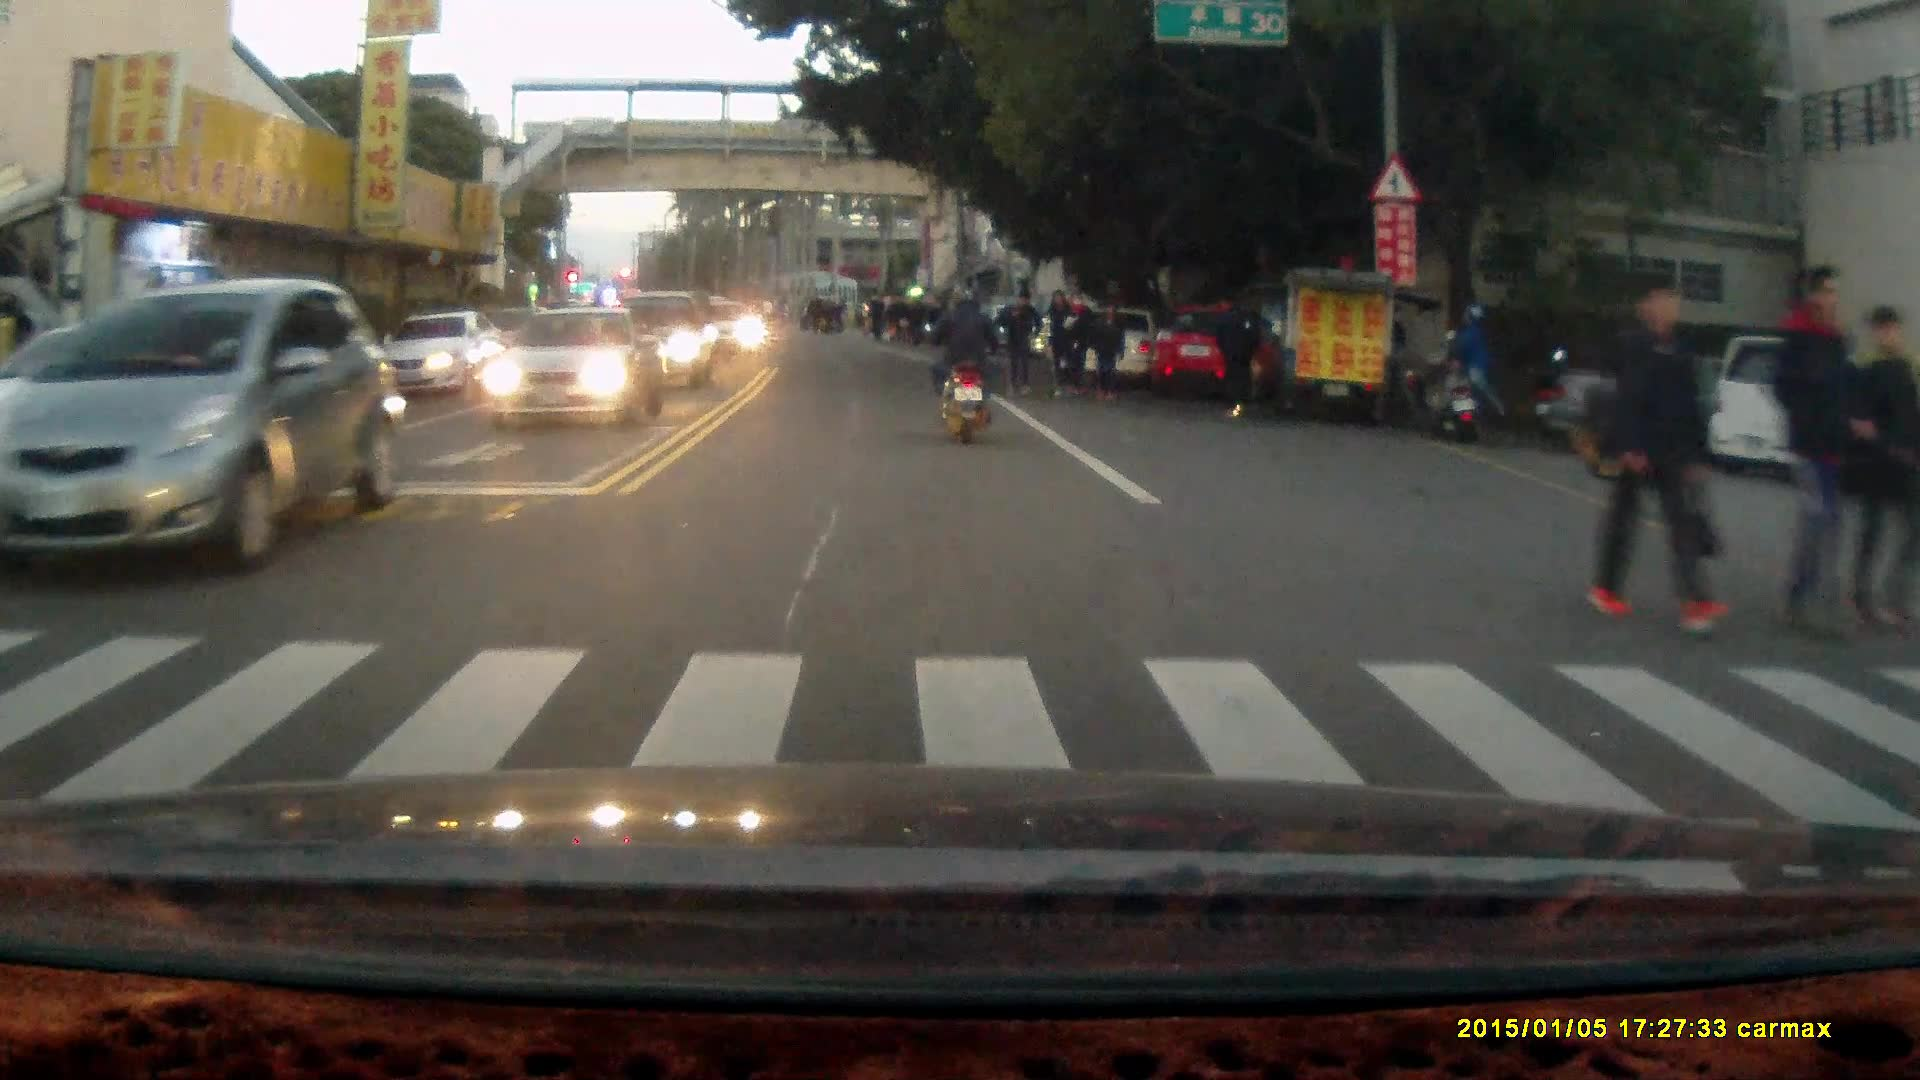pedestrian: (1582, 266, 1726, 640), (1771, 264, 1870, 632), (1844, 302, 1920, 637), (1208, 284, 1263, 423), (1450, 300, 1504, 431), (995, 284, 1040, 404), (1045, 284, 1079, 399), (1089, 296, 1126, 402)
rider: (923, 280, 1005, 448)
vehicle: (10, 279, 404, 574), (1541, 334, 1836, 472), (1775, 345, 1920, 504), (479, 301, 661, 426), (1147, 300, 1291, 399), (609, 284, 721, 386)
